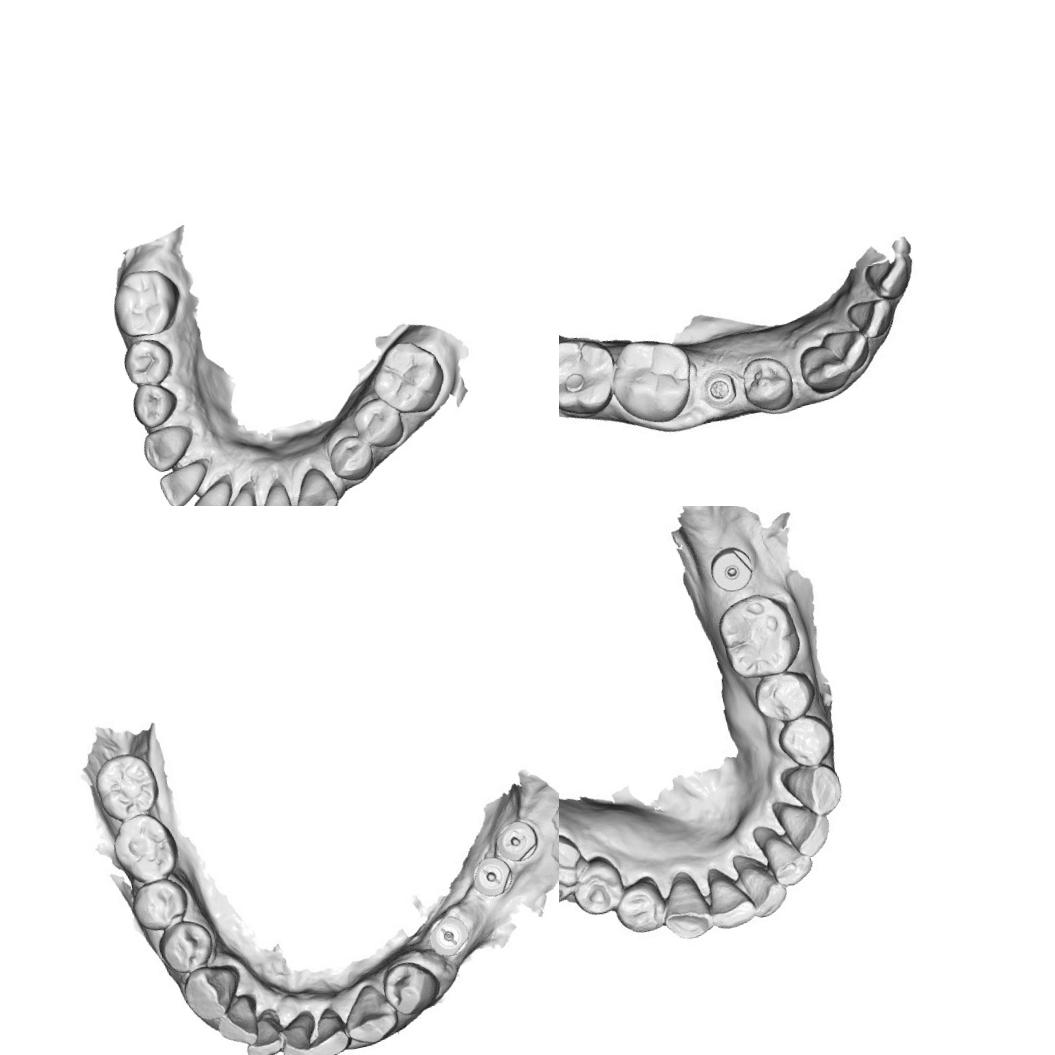canine: (654, 864, 718, 944), (334, 977, 403, 1051), (777, 755, 843, 821), (180, 962, 246, 1022), (793, 338, 853, 398), (138, 420, 201, 476), (286, 462, 344, 506)
implant: (698, 530, 764, 604), (696, 365, 745, 414)
implant_minus: (465, 853, 519, 902), (494, 816, 544, 865), (426, 910, 474, 961)
incisor: (736, 848, 788, 925), (775, 791, 833, 858), (755, 820, 808, 890), (235, 1001, 295, 1055), (860, 249, 918, 302), (705, 868, 755, 928), (154, 458, 214, 506), (846, 292, 900, 344), (826, 322, 873, 379), (301, 1006, 352, 1055), (213, 995, 260, 1048), (274, 1008, 319, 1055), (184, 476, 239, 506), (250, 480, 299, 506), (212, 484, 265, 506)
molar: (606, 328, 702, 432), (711, 588, 800, 681), (362, 332, 452, 422), (104, 262, 189, 344), (559, 328, 625, 423), (92, 750, 160, 826), (109, 812, 177, 885), (559, 816, 596, 914)
premolar: (772, 710, 838, 772), (736, 352, 798, 417), (347, 392, 408, 454), (380, 956, 443, 1015), (157, 919, 217, 979), (117, 333, 177, 392), (130, 879, 190, 934), (323, 429, 379, 487), (572, 858, 624, 920), (754, 668, 815, 720), (126, 376, 182, 432), (615, 878, 665, 934)
